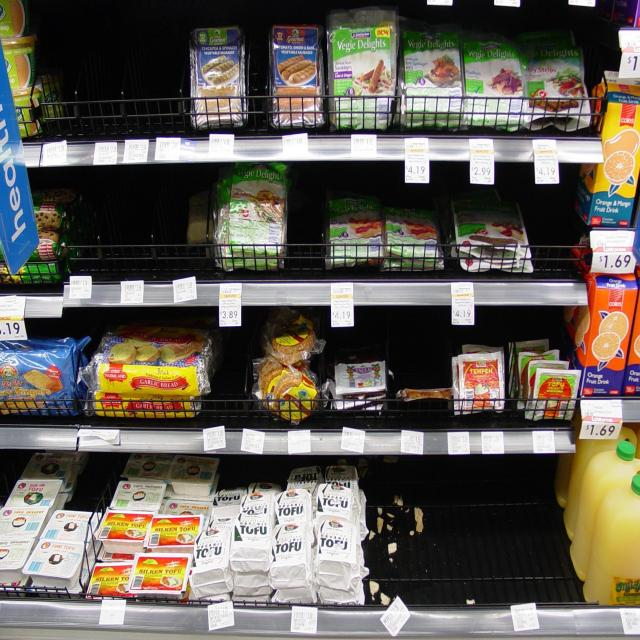void: (368, 486, 560, 604), (70, 31, 185, 125), (74, 194, 182, 269), (396, 342, 450, 412), (289, 194, 327, 266), (214, 339, 247, 415), (532, 204, 570, 264), (248, 41, 268, 117), (78, 459, 102, 504)
